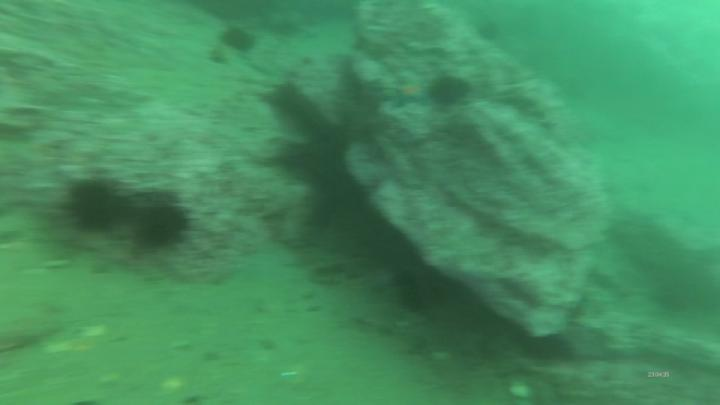echinus: (131, 205, 190, 250), (67, 183, 119, 233), (432, 75, 469, 106), (222, 28, 252, 52)
starfish: (391, 79, 428, 107)
